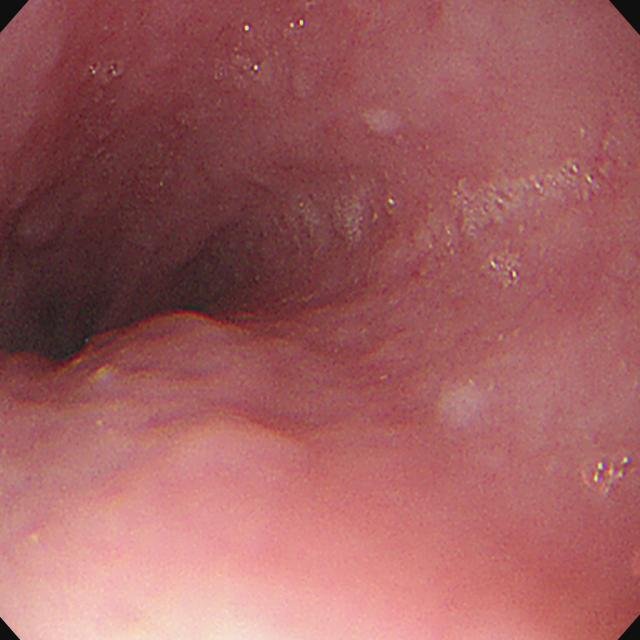J: (331, 195, 364, 244)
T: (460, 161, 603, 240), (580, 454, 632, 493), (486, 254, 523, 289)
U: (592, 461, 605, 483)
